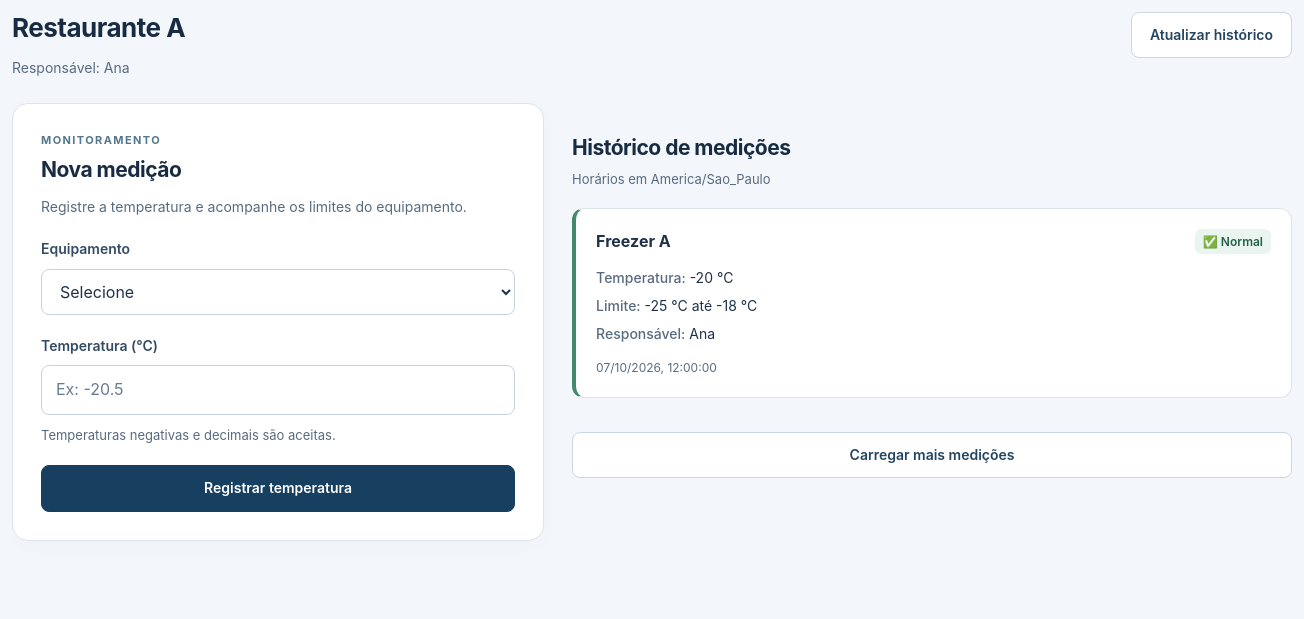
Test: medições compartilhadas › pagina o histórico sem substituir os registros já exibidos
Click the button "Carregar mais medições": point(932, 455) [572,432,1292,478]
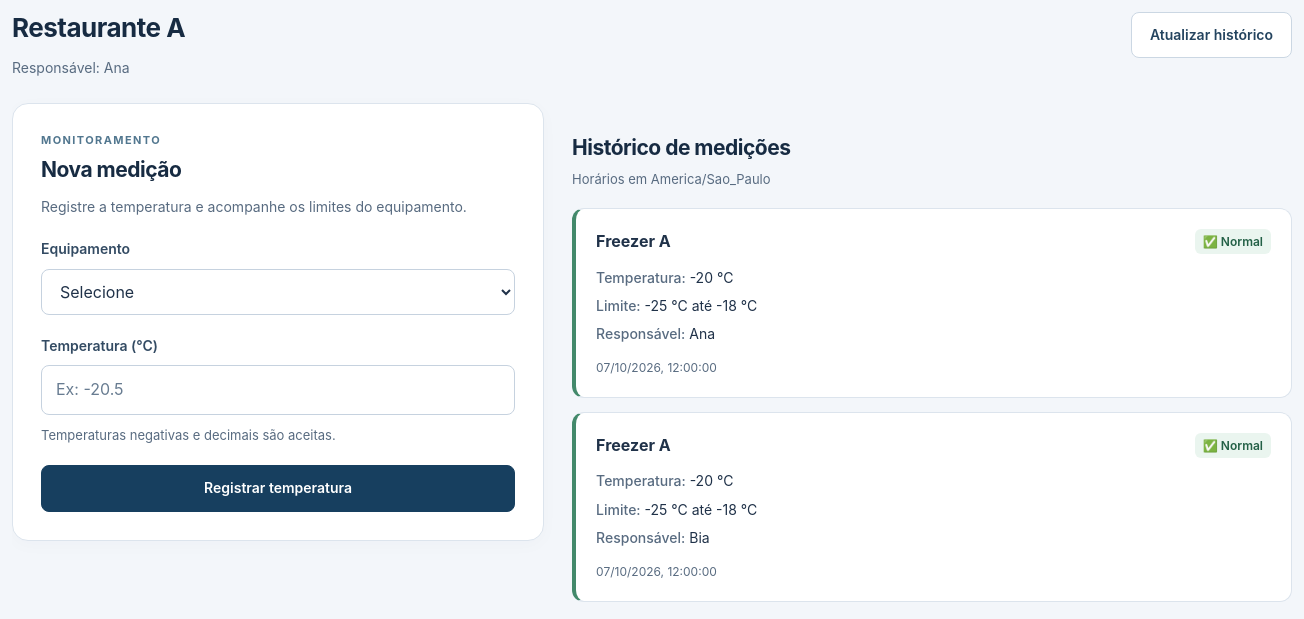
Expected: the button "Carregar mais medições" is gone
